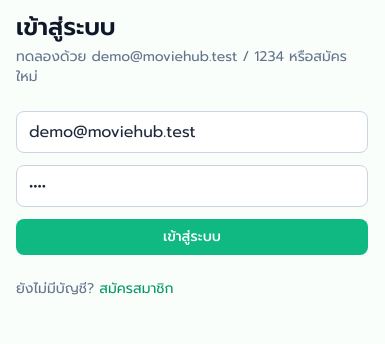
รหัสผ่านผิดต้องแสดงข้อความจาก server และให้ส่งฟอร์มใหม่ได้
Click the button "เข้าสู่ระบบ" at coordinates (192, 237), box [16,219,368,255]
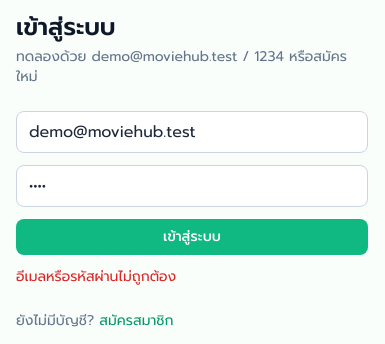
Check: the text "อีเมลหรือรหัสผ่านไม่ถูกต้อง" is shown, box [16,266,176,287]
